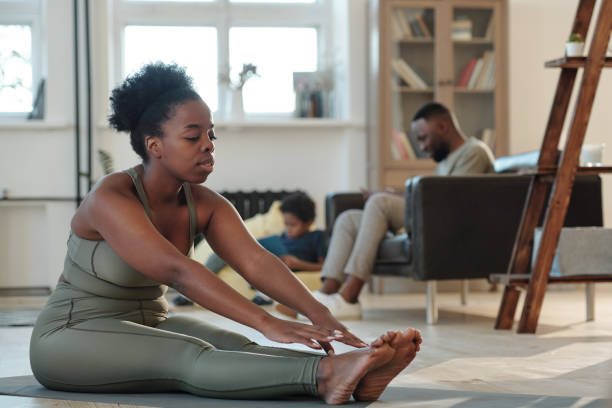without mask: (126, 98, 224, 185), (404, 100, 466, 166), (280, 205, 312, 242)
